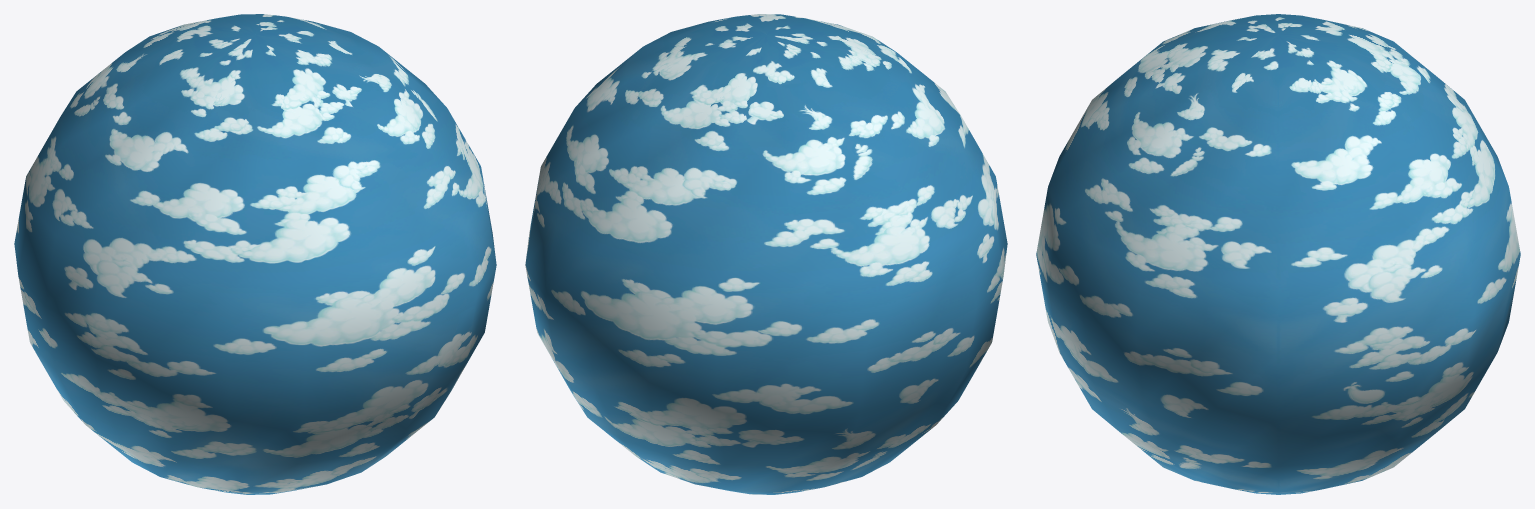
File: m_menu_bg_sky.fbx
3 renders of one model, left to right at view 1: azimuth 30°, elevation 25°; view 2: azimuth 150°, elevation 25°; view 3: azimuth 270°, elevation 25°, orthographic.
Parts seen in each view (by area): view 1: Skybox; view 2: Skybox; view 3: Skybox.
Part boxes in pixels (bbox=[...]): Skybox: bbox=[14, 14, 496, 494]; Skybox: bbox=[525, 14, 1007, 494]; Skybox: bbox=[1036, 14, 1520, 494].
Bounding box in the file's own units: 500 × 500 × 500.
1 material, 1 textured.
